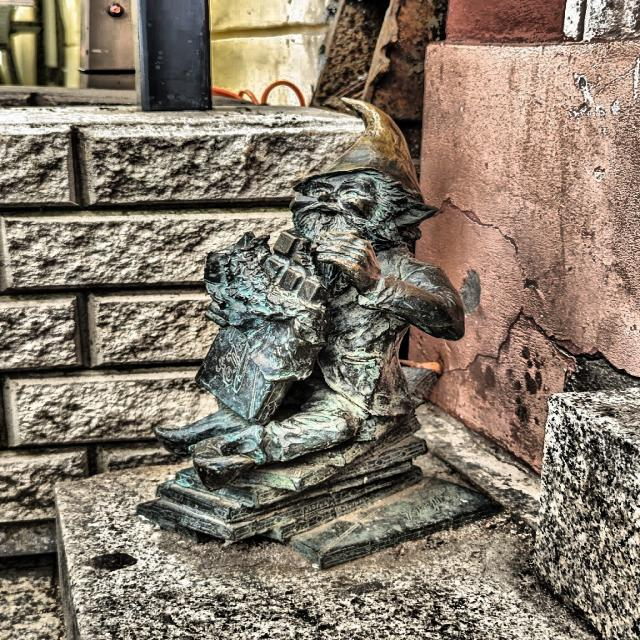Wedelek: (138, 99, 501, 568)
